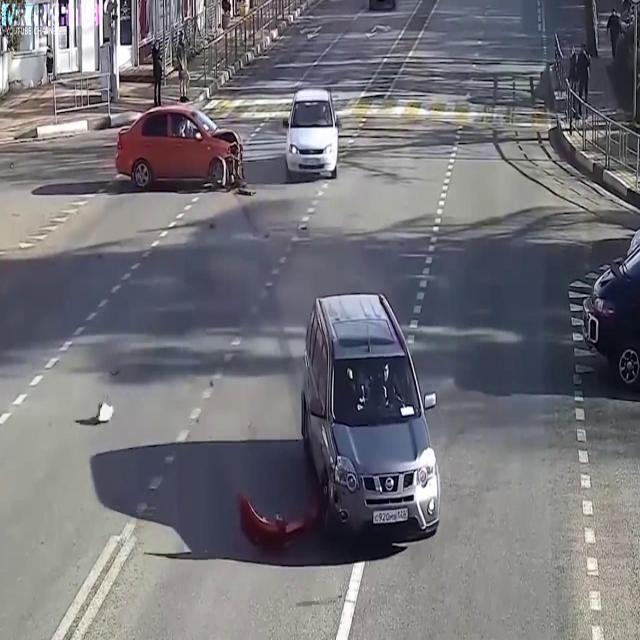accident: (228, 280, 452, 588), (113, 95, 263, 206)
